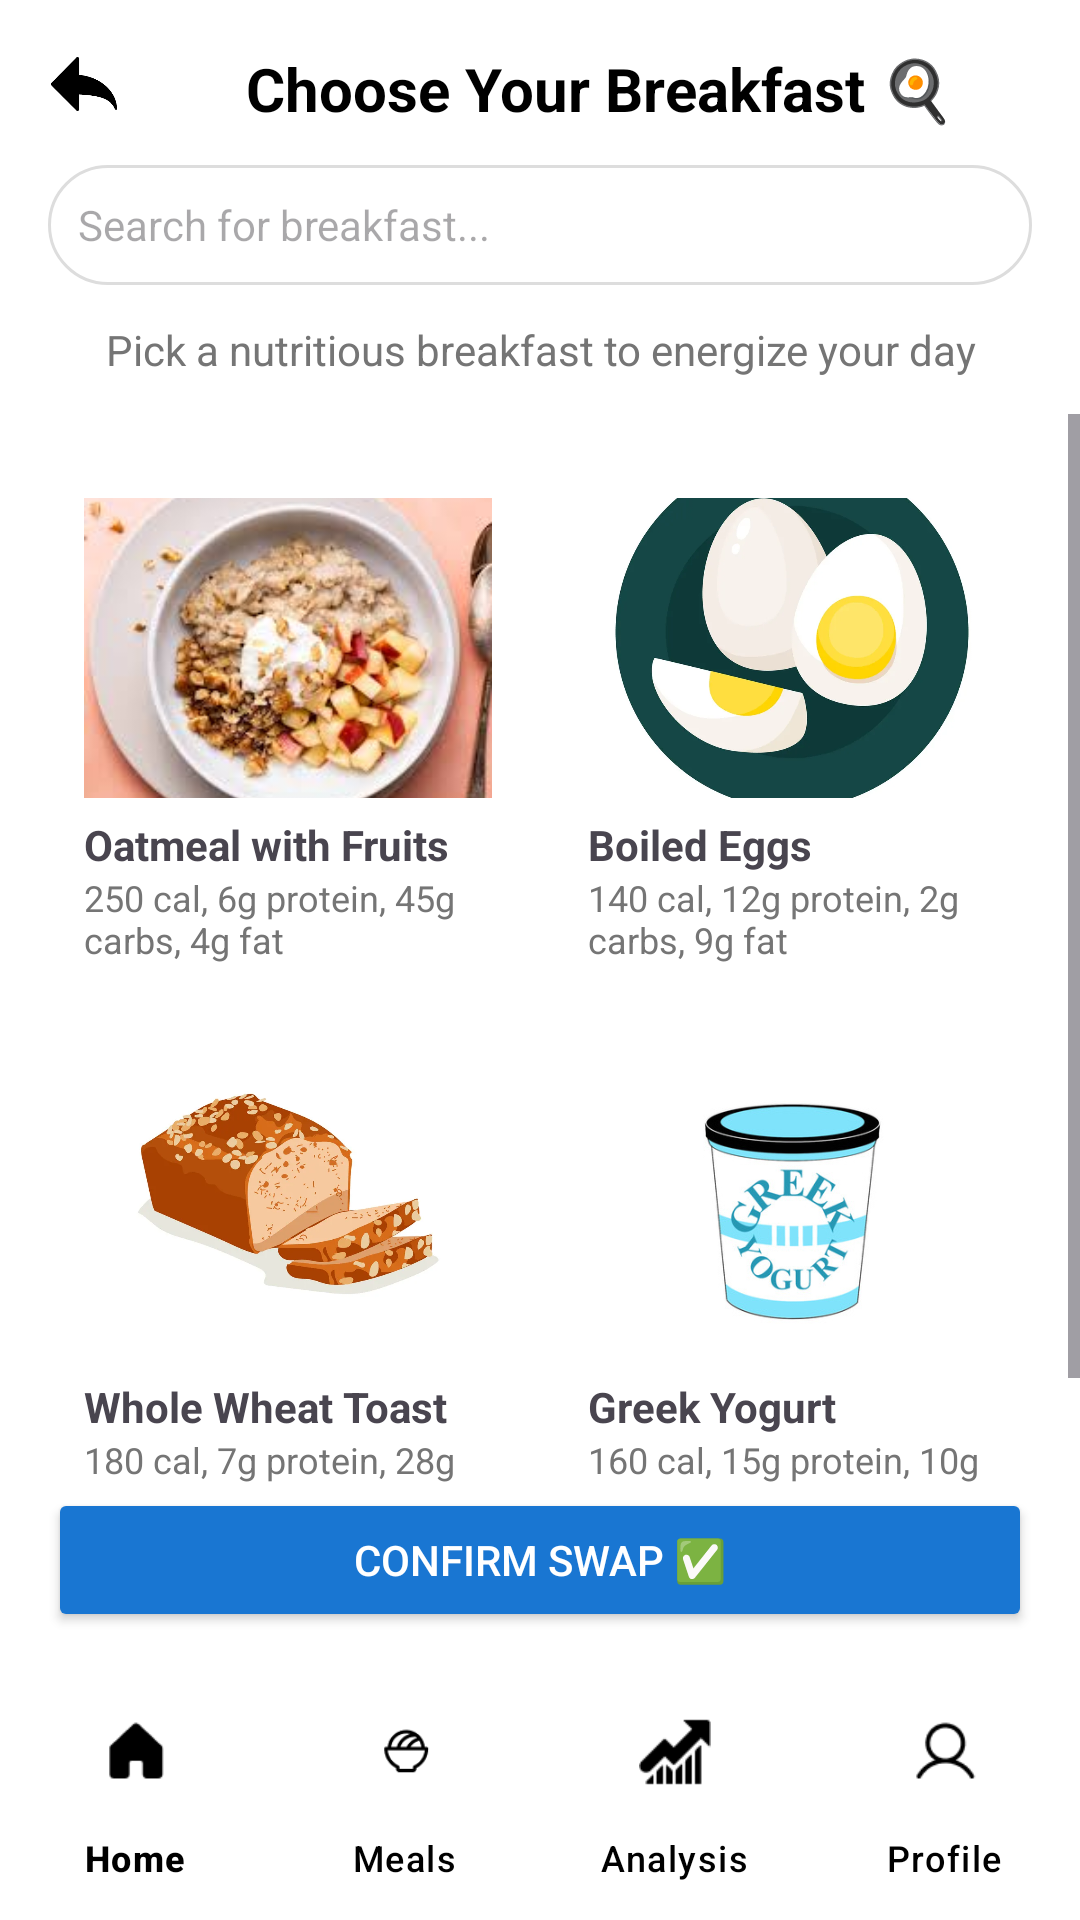

Where to tap for icons on this 1080w x 1920h app screen, as [x,y]:
backarrow: [84,84]
